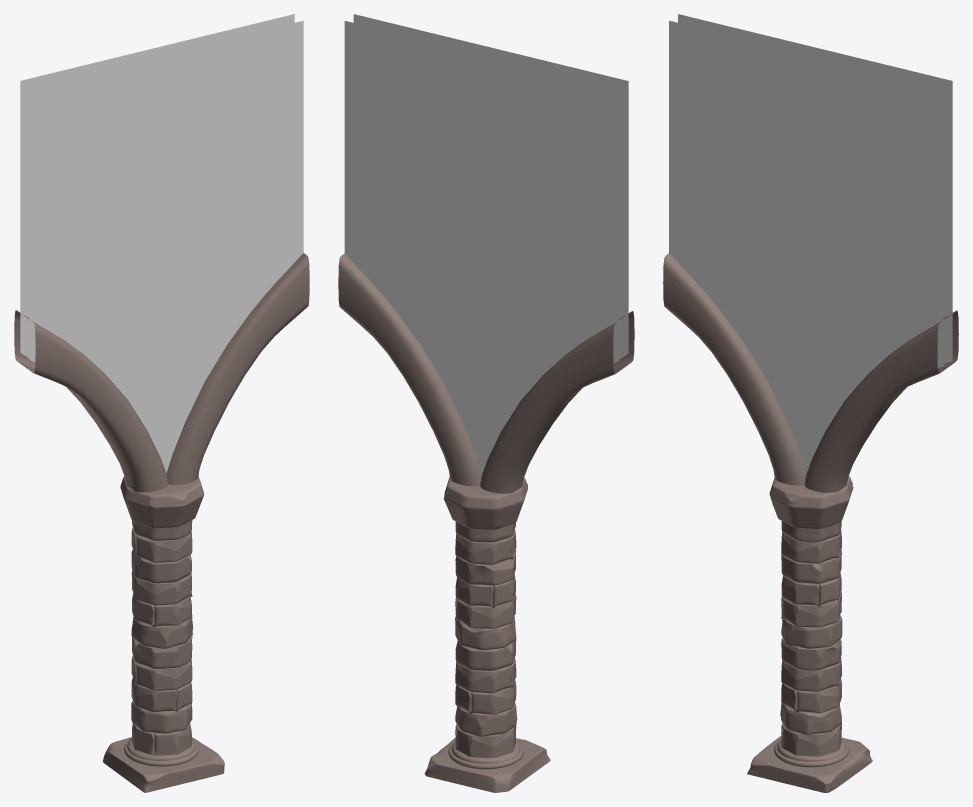
Rendered from IndoorColumnArchesHalf.fbx.
The picture shows the model from 3 angles, left to right: view 1: azimuth 30°, elevation 25°; view 2: azimuth 150°, elevation 25°; view 3: azimuth 330°, elevation 25°; orthographic projection.
Parts seen in each view (by area): view 1: Cube.087, Cylinder.040; view 2: Cube.087, Cylinder.040; view 3: Cube.087, Cylinder.040.
Boxes of the visible parts, x1,y1,x2,y2 form: Cube.087: (20, 14, 303, 473); Cylinder.040: (14, 253, 309, 792); Cube.087: (344, 14, 628, 473); Cylinder.040: (338, 253, 634, 792); Cube.087: (669, 14, 952, 473); Cylinder.040: (663, 253, 958, 792).
Bounding box in the file's own units: 201 × 60 × 500.
